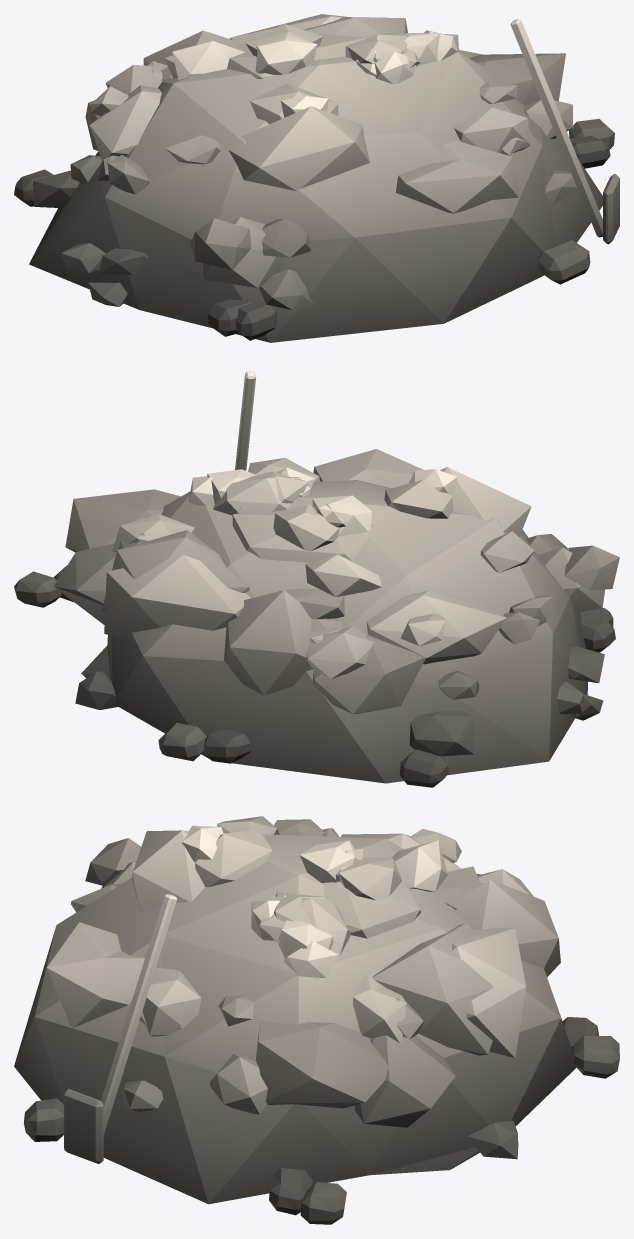
File: SM_VK_Pile_Ore_3.fbx
The picture shows the model from 3 angles, top to bottom: view 1: azimuth 30°, elevation 25°; view 2: azimuth 150°, elevation 25°; view 3: azimuth 270°, elevation 25°; orthographic projection. The views are drawn at different scales.
Visible parts, largest first — view 1: SM_VK_Pile_Ore_3.001; view 2: SM_VK_Pile_Ore_3.001; view 3: SM_VK_Pile_Ore_3.001.
Boxes of the visible parts, x1,y1,x2,y2 form: SM_VK_Pile_Ore_3.001: (14,14,619,342); SM_VK_Pile_Ore_3.001: (14,371,619,787); SM_VK_Pile_Ore_3.001: (14,816,619,1224).
Size of the model in its own units: 3.16 by 1.23 by 2.62.
